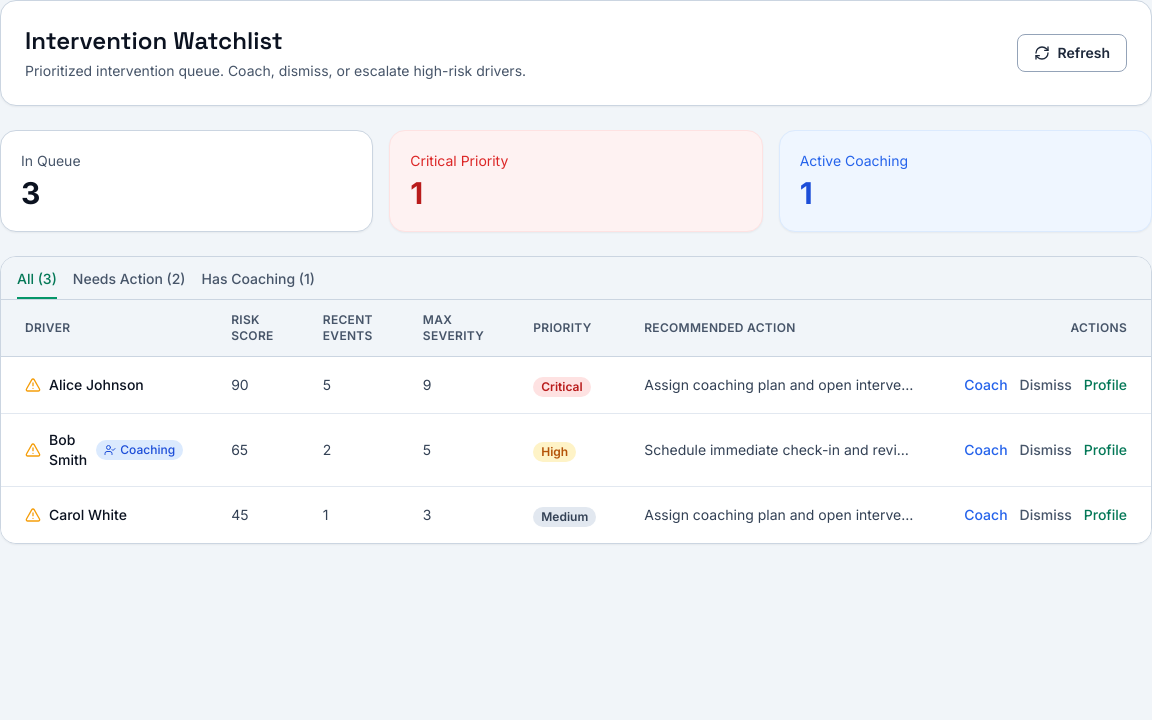
Test case: Watchlist page › opens coaching modal when Coach is clicked
The width and height of the screenshot is (1152, 720).
Expected: the text "Alice Johnson" is shown, [49,375,144,395]
Click the button "Coach" in the row of "Alice Johnson" at (986, 385), box [964,375,1008,395]
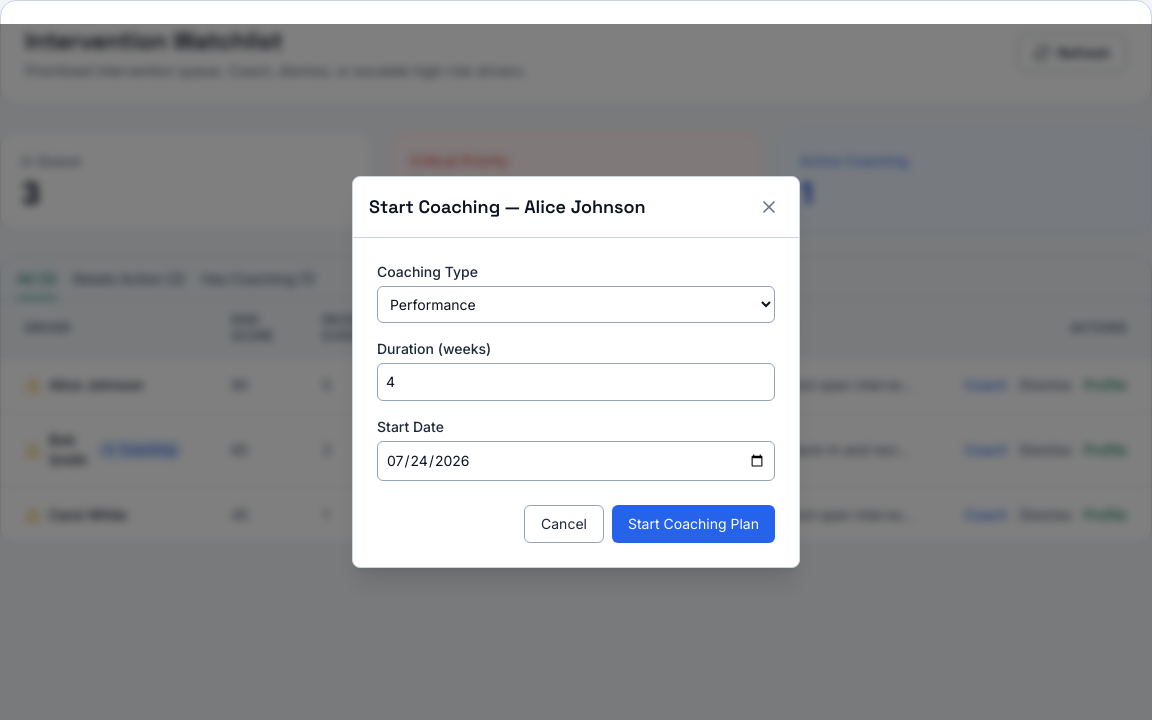
Now the dialog "Start Coaching" is shown, box [352,176,800,568]
